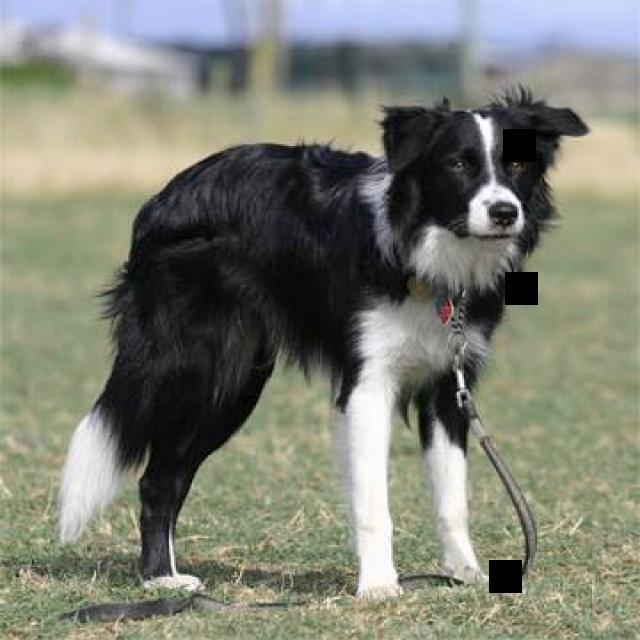adult_dog: (51, 88, 594, 599)
